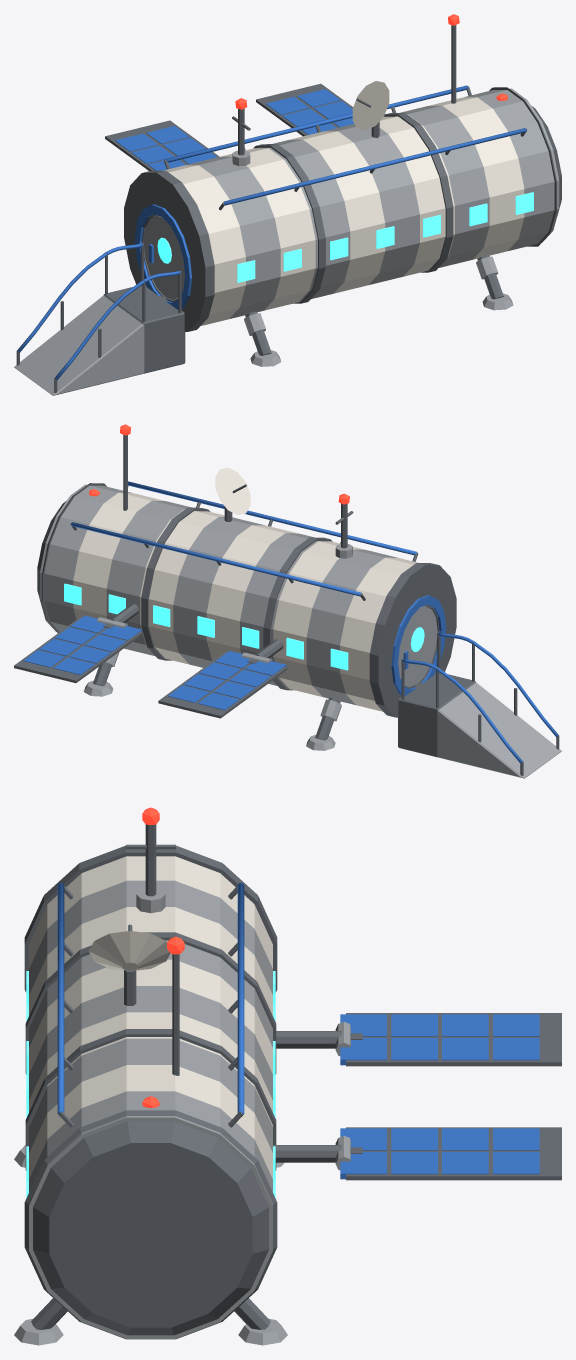
The model's file is space-habitat-module.glb.
The picture shows the model from 3 angles, top to bottom: view 1: azimuth 30°, elevation 25°; view 2: azimuth 150°, elevation 25°; view 3: azimuth 270°, elevation 25°; orthographic projection. The views are drawn at different scales.
Parts seen in each view (by area): view 1: Hull, BoardingRamp, EndCap_Airlock, RampLanding, AirlockDoor, AirlockFrame, Handrail_L, HullCollar_B, HullCollar_A, Dish, Handrail_R, SolarFrame_1 (+5 smaller); view 2: Hull, BoardingRamp, EndCap_Airlock, RampLanding, AirlockDoor, SolarFrame_2, SolarFrame_1, AirlockFrame, Handrail_R, HullCollar_B, Handrail_L, Dish (+4 smaller); view 3: Hull, EndCap_Rear, SolarFrame_1, SolarFrame_2, EndCap_Airlock, Dish, HullCollar_B, HullCollar_A, Handrail_L, Handrail_R, SolarBoom_2, SolarBoom_1 (+20 smaller).
Boxes of the visible parts, x1,y1,x2,y2 form: Hull: (163, 88, 559, 325); BoardingRamp: (14, 295, 144, 395); EndCap_Airlock: (124, 170, 214, 331); RampLanding: (103, 285, 185, 373); AirlockDoor: (143, 215, 184, 299); AirlockFrame: (135, 204, 191, 309); Handrail_L: (223, 128, 526, 205); HullCollar_B: (384, 112, 453, 272); HullCollar_A: (253, 144, 325, 303); Dish: (352, 81, 389, 130); Handrail_R: (165, 85, 468, 162); SolarFrame_1: (105, 120, 219, 170); Hull: (40, 484, 418, 711); BoardingRamp: (437, 682, 561, 778); EndCap_Airlock: (369, 563, 456, 717); RampLanding: (398, 673, 475, 757); AirlockDoor: (398, 606, 437, 686); SolarFrame_2: (14, 617, 142, 682); SolarFrame_1: (158, 652, 287, 718); AirlockFrame: (391, 595, 446, 695); Handrail_R: (71, 522, 361, 596); HullCollar_B: (141, 507, 210, 660); Handrail_L: (128, 481, 417, 555); Dish: (215, 467, 250, 514); Hull: (29, 856, 272, 1338); EndCap_Rear: (24, 1110, 277, 1339); SolarFrame_1: (346, 1013, 561, 1066); SolarFrame_2: (346, 1127, 561, 1180); EndCap_Airlock: (24, 845, 277, 992); Dish: (89, 931, 170, 970); HullCollar_B: (25, 1029, 276, 1170); HullCollar_A: (25, 932, 276, 1074); Handrail_L: (57, 883, 64, 1115); Handrail_R: (237, 883, 244, 1115); SolarBoom_2: (273, 1145, 341, 1162); SolarBoom_1: (276, 1031, 341, 1048).
Size of the model in its own units: 42.71 by 21.18 by 26.4.
